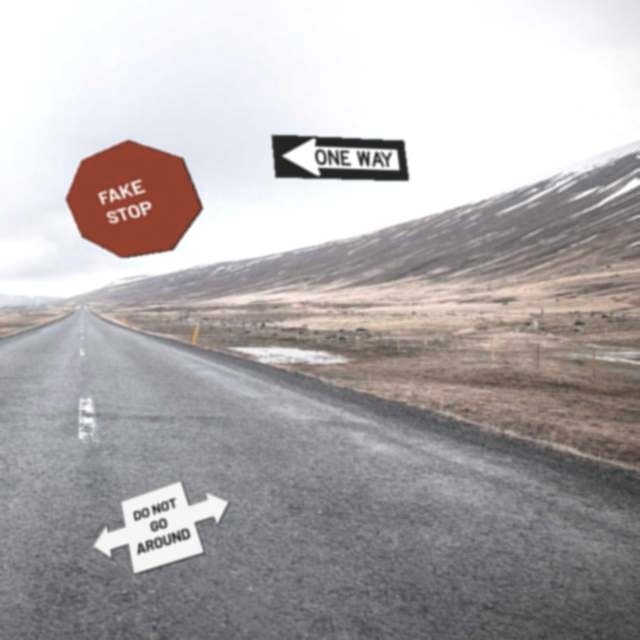DO_NOT_GO_AROUND: (92, 480, 230, 575)
FAKE_STOP: (65, 139, 203, 258)
ONE_WAY_ left: (271, 134, 409, 181)
